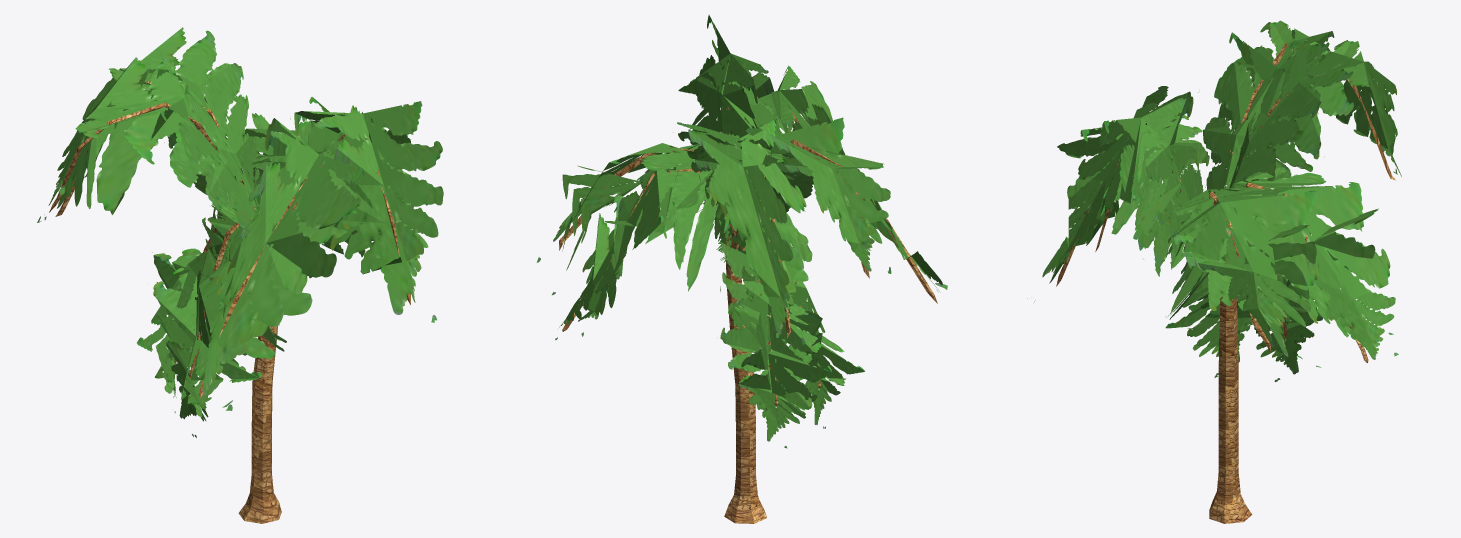
Rendered from palm-clump.lod1.glb.
The picture shows the model from 3 angles, left to right: view 1: azimuth 30°, elevation 25°; view 2: azimuth 150°, elevation 25°; view 3: azimuth 270°, elevation 25°; orthographic projection. The views are drawn at different scales.
Visible parts, largest first — view 1: Palm Tree 3 Leaves_0, Palm Tree 3 Main_0; view 2: Palm Tree 3 Leaves_0, Palm Tree 3 Main_0; view 3: Palm Tree 3 Leaves_0, Palm Tree 3 Main_0.
Boxes of the visible parts, x1=… form: Palm Tree 3 Leaves_0: x1=37, y1=27, x2=443, y2=437; Palm Tree 3 Main_0: x1=49, y1=80, x2=410, y2=523; Palm Tree 3 Leaves_0: x1=536, y1=15, x2=947, y2=448; Palm Tree 3 Main_0: x1=559, y1=63, x2=937, y2=523; Palm Tree 3 Leaves_0: x1=1027, y1=20, x2=1401, y2=381; Palm Tree 3 Main_0: x1=1056, y1=43, x2=1396, y2=523.
Bounding box in the file's own units: 6.13 × 7 × 6.45.
2 materials, 2 textured.
